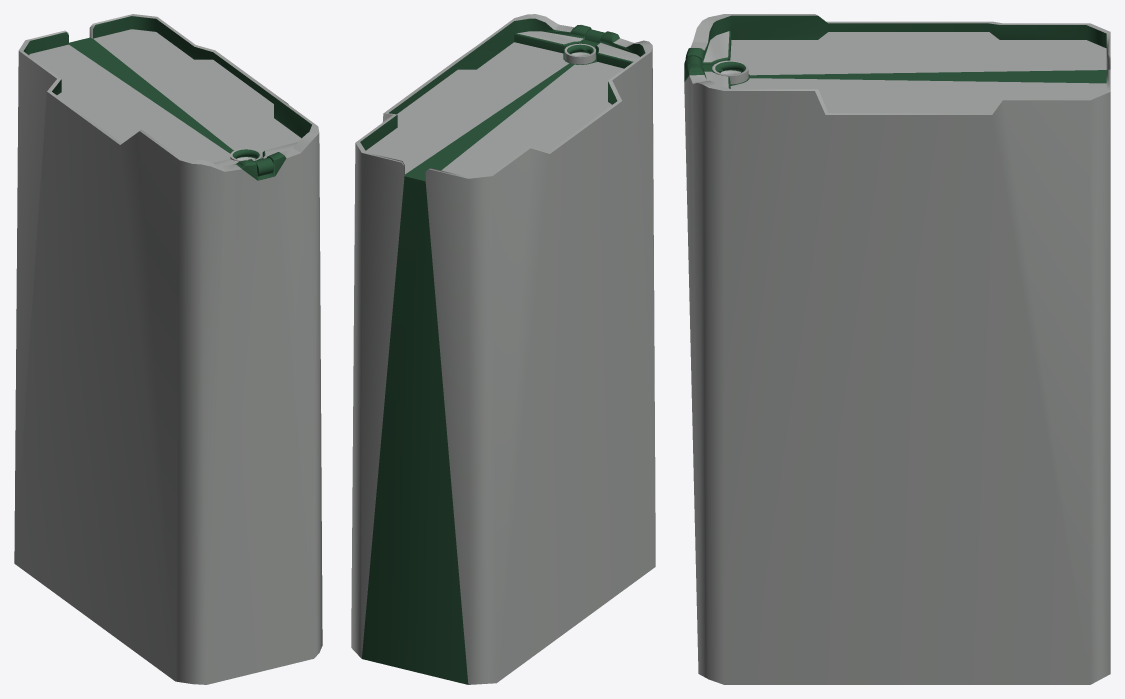
Rendered from Arena_round_door_wider_side.fbx.
3 views of the same model, side by side, from view 1: azimuth 30°, elevation 25°; view 2: azimuth 150°, elevation 25°; view 3: azimuth 270°, elevation 25° (orthographic). The views are drawn at different scales.
Parts seen in each view (by area): view 1: arena, door; view 2: arena, door; view 3: arena, door.
Boxes of the visible parts, box(x1,y1,x2,y2) form: arena: box(14, 14, 322, 684); door: box(230, 148, 273, 176); arena: box(351, 14, 655, 684); door: box(564, 29, 604, 64); arena: box(684, 14, 1110, 684); door: box(684, 56, 748, 84).
Bounding box in the file's own units: 1044 × 3081 × 2013.
